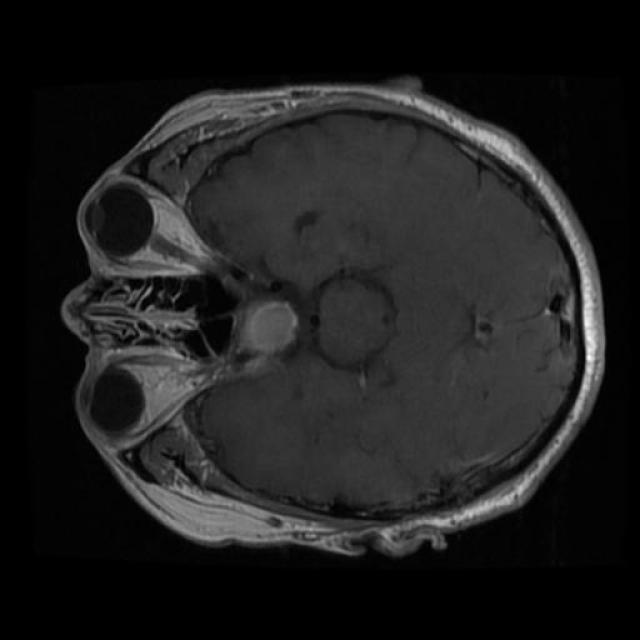Pituitary: (231, 301, 298, 355)
